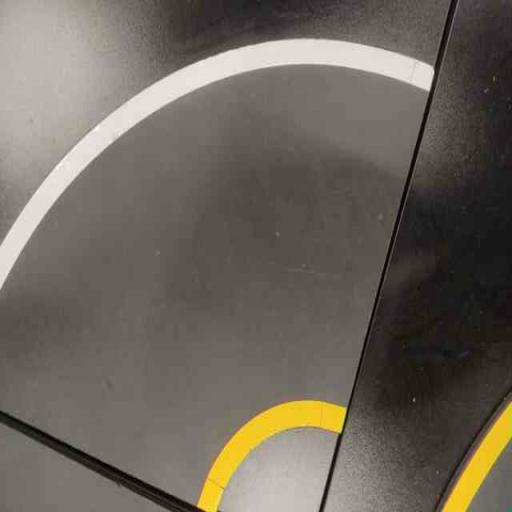left: (0, 22, 437, 511)
